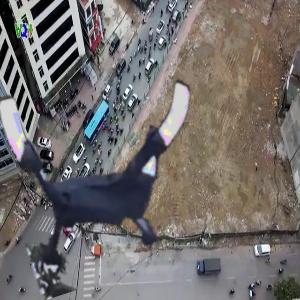drone: (5, 65, 216, 276)
